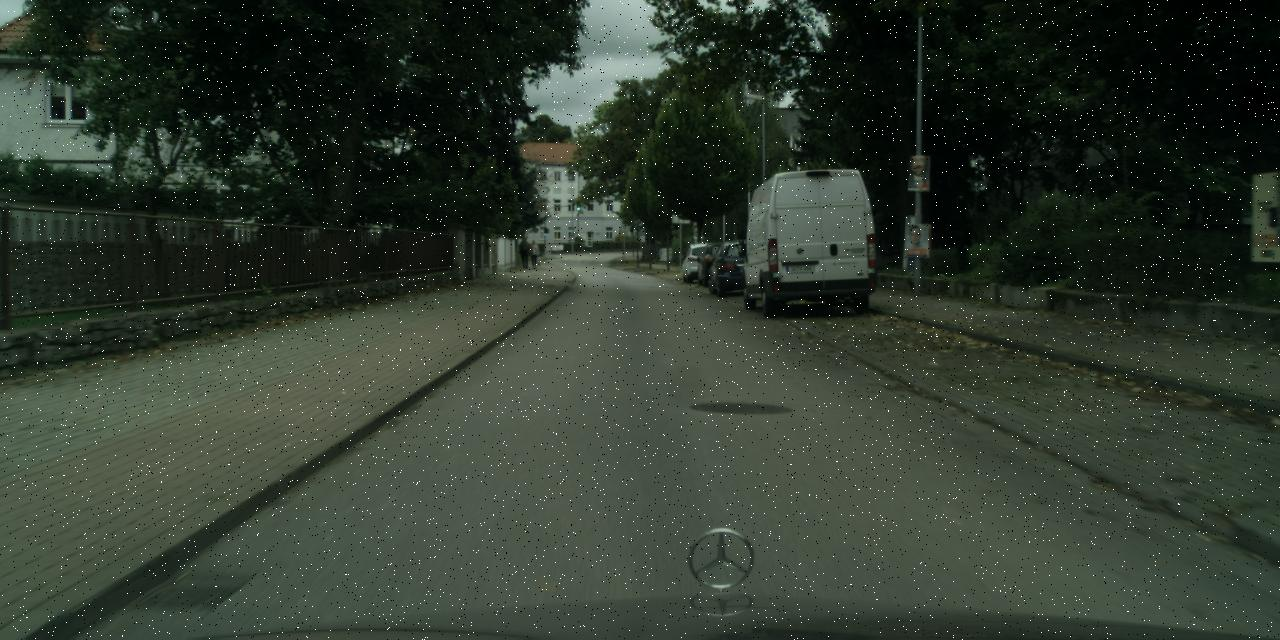ped: (518, 235, 531, 267), (528, 239, 538, 267)
